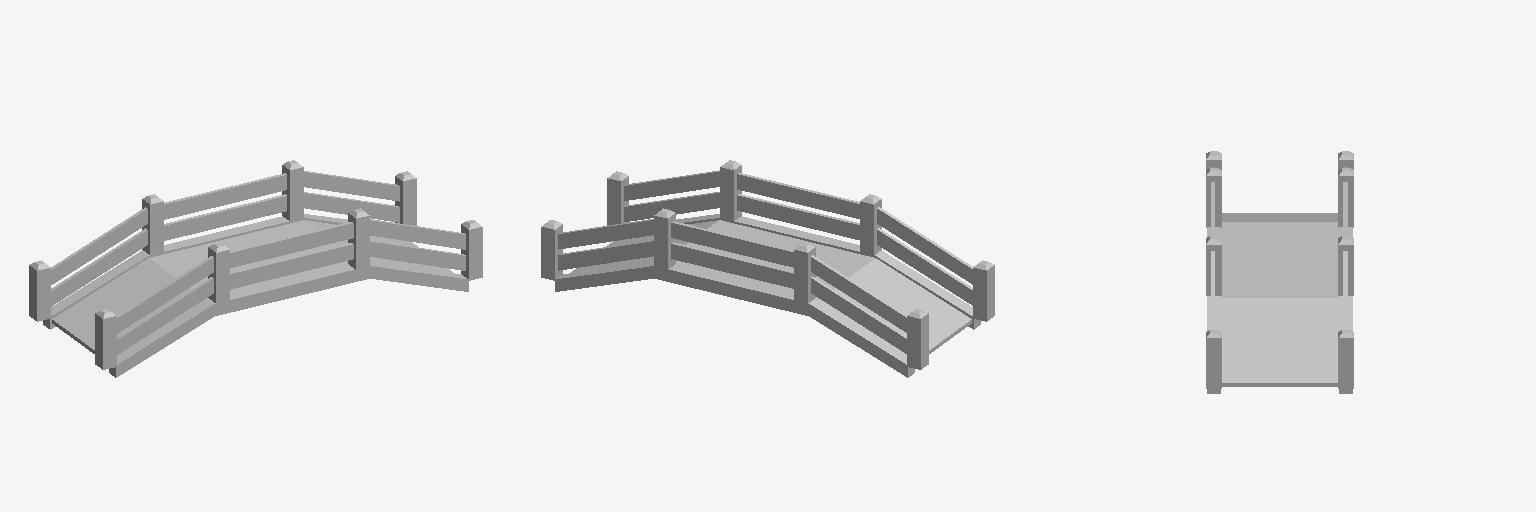
The model's file is aBridge.obj.
3 renders of one model, left to right at view 1: azimuth 30°, elevation 25°; view 2: azimuth 150°, elevation 25°; view 3: azimuth 270°, elevation 25°, orthographic.
Visible parts, largest first — view 1: Cube.014_Cube.017; view 2: Cube.014_Cube.017; view 3: Cube.014_Cube.017.
Part boxes in pixels (left/top/right/bottom): Cube.014_Cube.017: left=29, top=160, right=482, bottom=377; Cube.014_Cube.017: left=541, top=160, right=994, bottom=377; Cube.014_Cube.017: left=1206, top=151, right=1353, bottom=393.
Size of the model in its own units: 2 by 0.5275 by 0.6738.